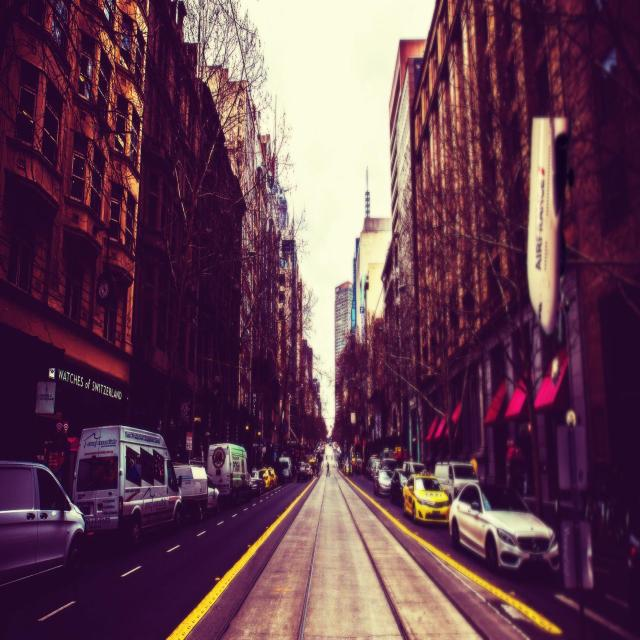airplane: (526, 116, 569, 338)
